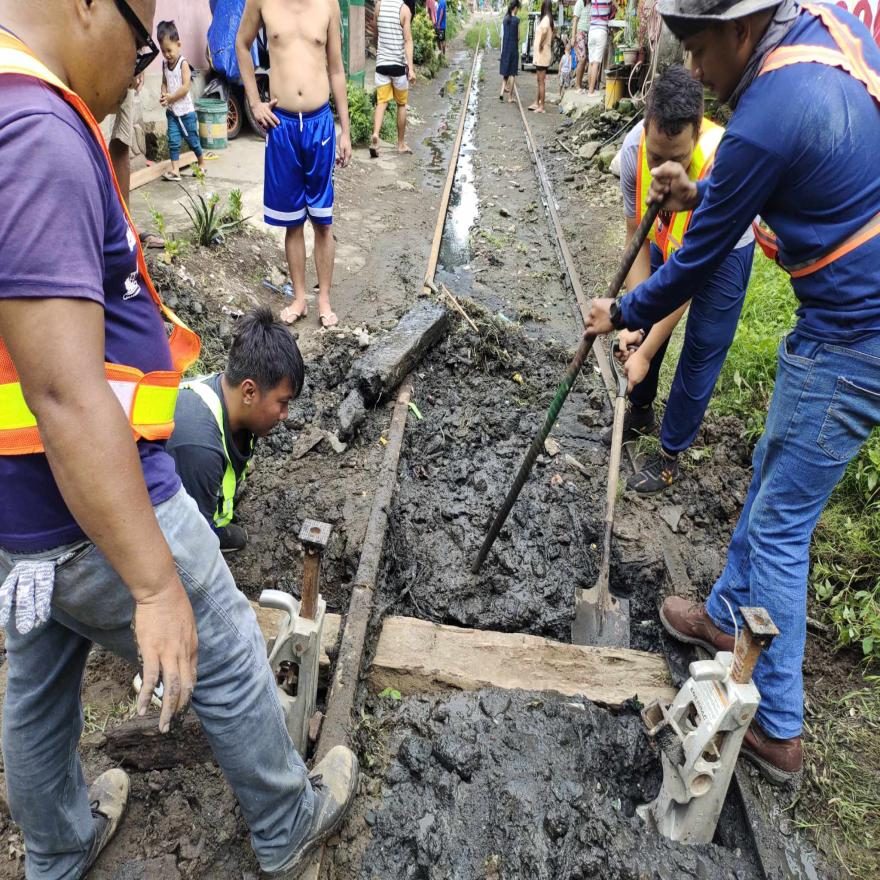railway-gap: (334, 550, 396, 628)
